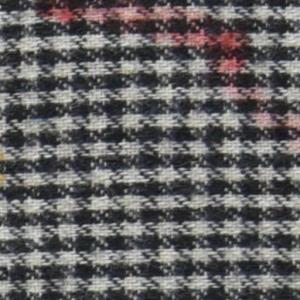Stain: (32, 1, 300, 155)
